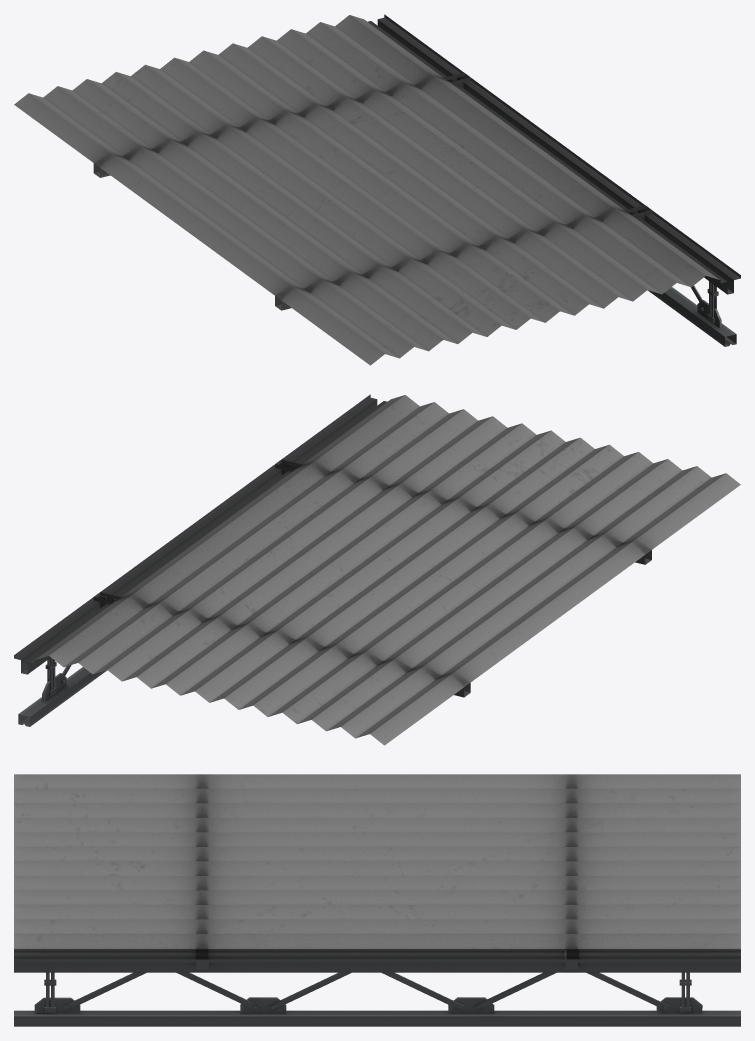
Rendered from Roof_re.fbx.
3 renders of one model, top to bottom at view 1: azimuth 30°, elevation 25°; view 2: azimuth 150°, elevation 25°; view 3: azimuth 270°, elevation 25°, orthographic.
Visible parts, largest first — view 1: roof_flat; view 2: roof_flat; view 3: roof_flat.
Boxes of the visible parts, box(x1,y1,x2,y2) form: roof_flat: box(14, 14, 740, 365); roof_flat: box(14, 394, 740, 745); roof_flat: box(14, 774, 740, 1026).
Size of the model in its own units: 12 by 2.35 by 20.
